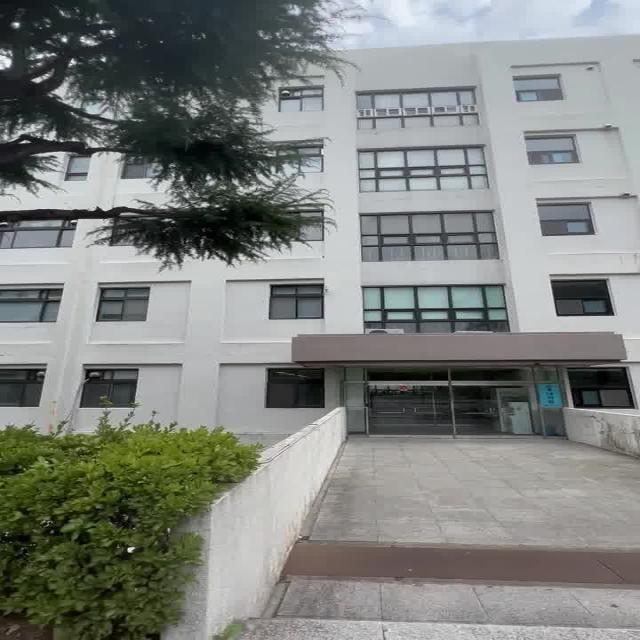building: (311, 66, 640, 454)
